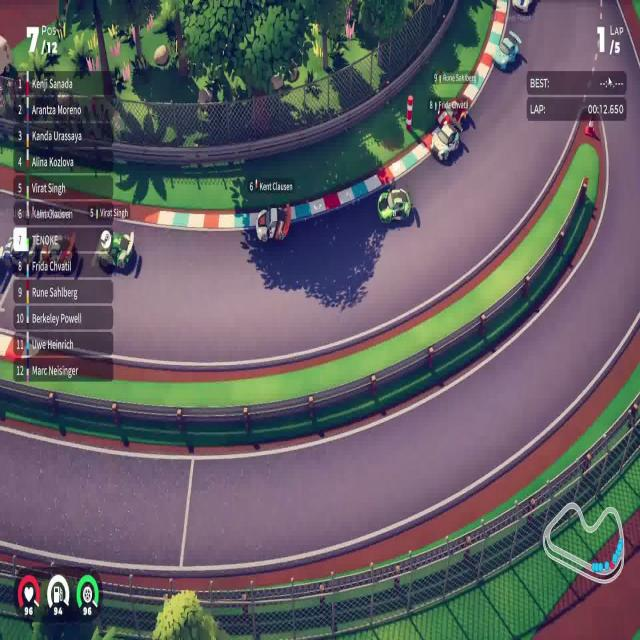car: (250, 203, 295, 246), (429, 122, 464, 162), (377, 186, 412, 225), (436, 93, 470, 125), (492, 35, 521, 70)
